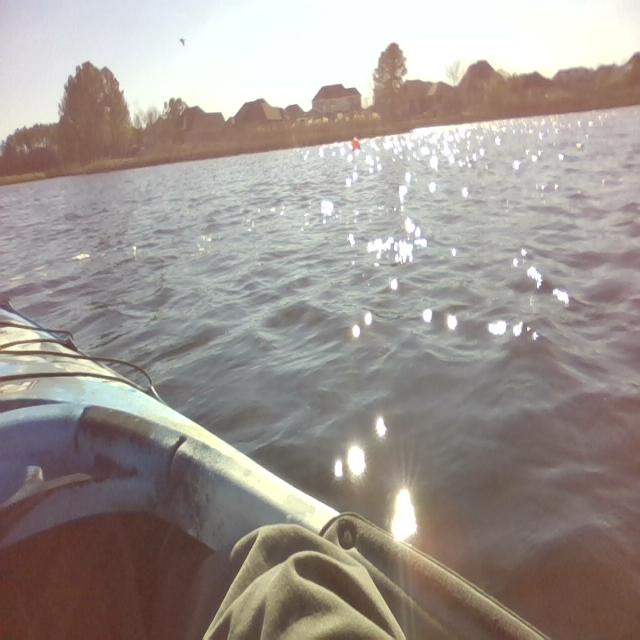Buoy: (347, 135, 365, 156)
